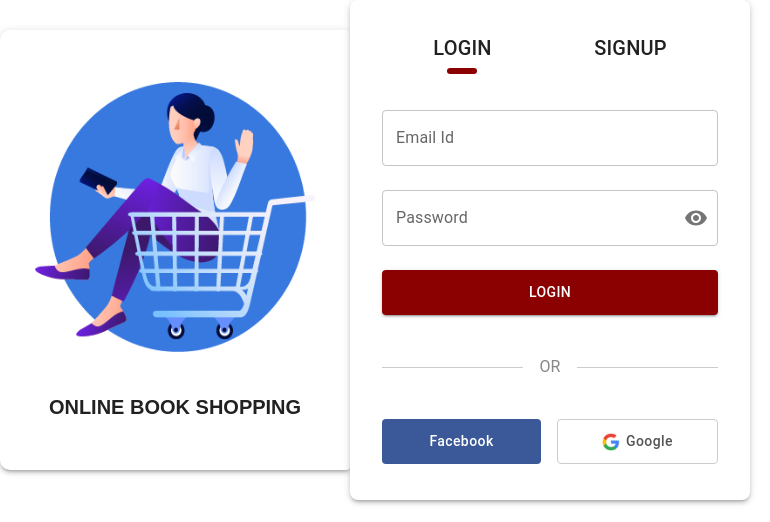
Test: AuthCard Component › switches to signup view when clicking signup tab
The width and height of the screenshot is (770, 522).
Simulate clicking the SIGNUP tab
Click the text "SIGNUP" at (630, 48), box x1=594 y1=36 x2=667 y2=60
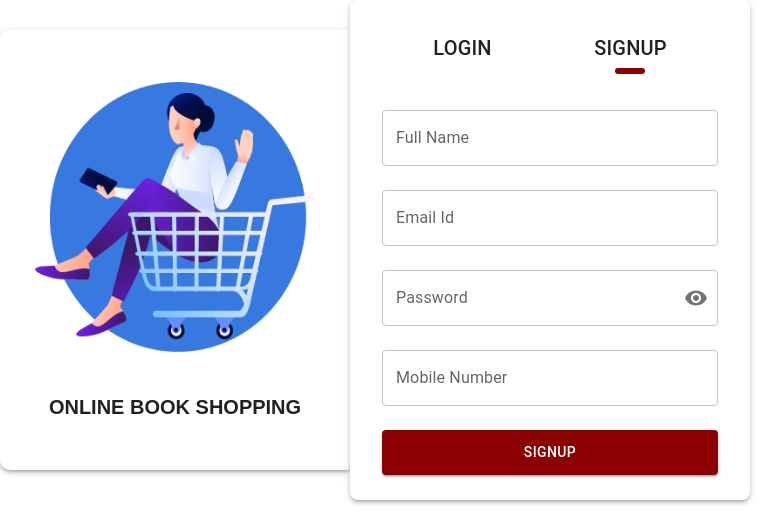
Result: the button "Signup" is shown at x1=382 y1=430 x2=718 y2=475
Result: the field labelled "Full Name" is shown at x1=382 y1=110 x2=718 y2=166
